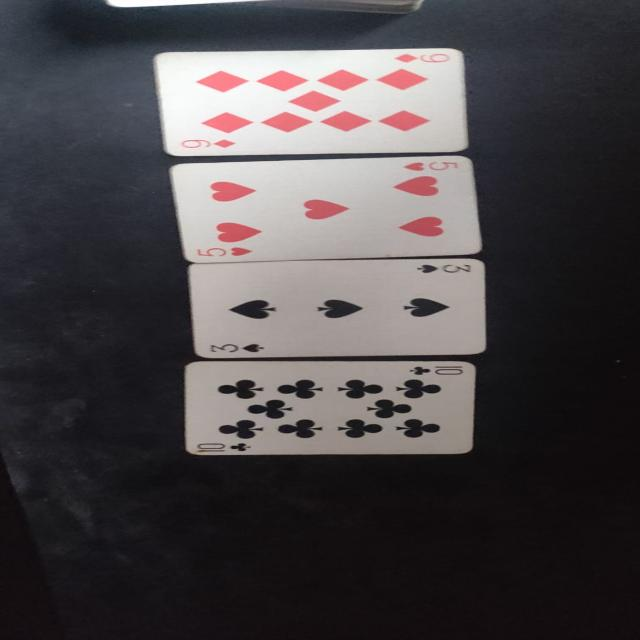Club: (218, 379, 264, 398), (366, 399, 412, 418), (278, 380, 323, 399), (396, 379, 441, 398), (278, 419, 323, 438), (338, 379, 382, 398), (248, 399, 292, 418), (396, 419, 440, 438), (338, 419, 382, 438), (219, 420, 263, 439), (410, 366, 430, 375), (230, 443, 251, 451)
Diamond: (195, 70, 250, 92), (317, 69, 369, 91), (256, 70, 308, 92), (288, 90, 340, 112), (379, 110, 431, 132), (376, 69, 428, 90), (201, 112, 253, 133), (320, 111, 372, 131), (261, 112, 312, 132), (213, 139, 237, 148), (394, 54, 418, 62)
Heart: (304, 199, 349, 220), (216, 222, 263, 242), (393, 176, 439, 196), (398, 216, 444, 236), (211, 182, 256, 202), (403, 162, 424, 171), (231, 247, 252, 256)
Spade: (229, 300, 276, 319), (404, 298, 450, 317), (317, 300, 364, 318), (417, 264, 438, 274), (242, 344, 264, 352)
